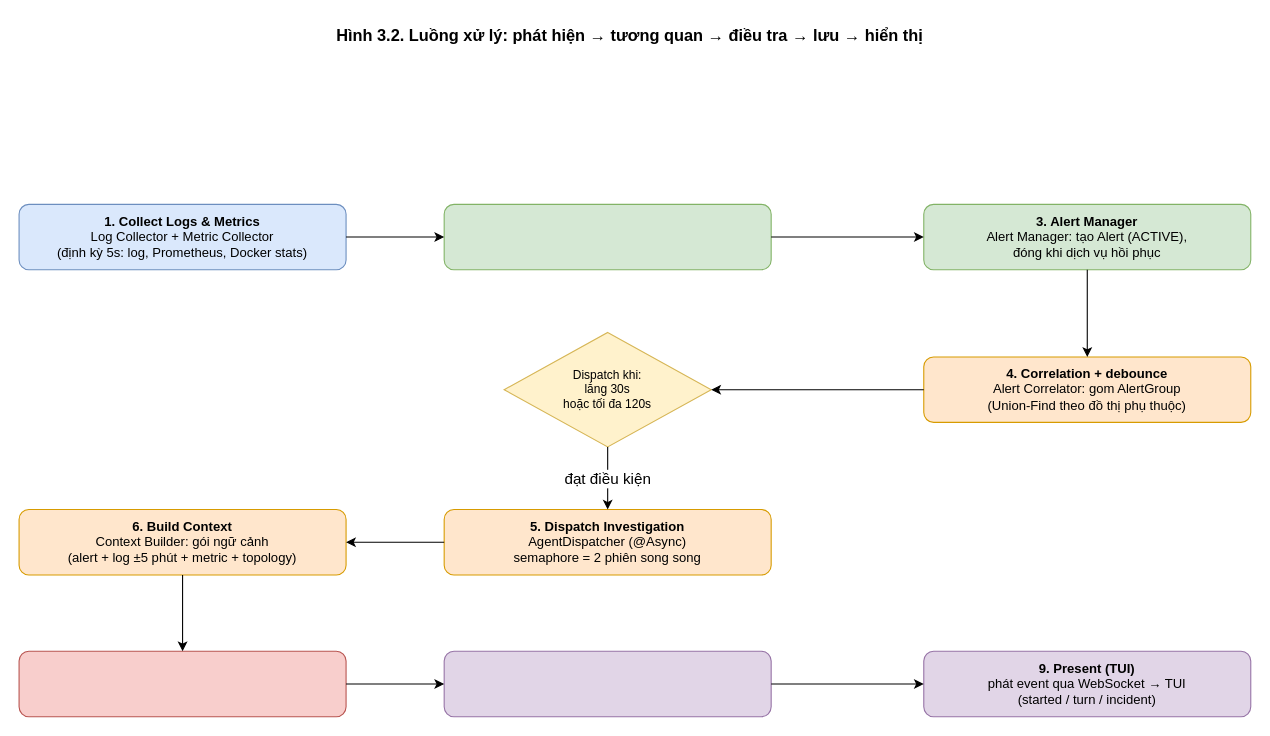
This 1270x736 diagram has some shape labels left out. Here are the shapes that lost their labels. From the top down, the centre of each, then its label:
the point at 607,236: 2. Detect Anomaly Detector (@Scheduled 5s) đối chiếu chỉ số với luật ngưỡng
the point at 182,683: 7. AI Agent vòng lặp 4 pha (gọi tool ↔ LLM) → List<IncidentReport>
the point at 607,683: 8. Persist Incident persist Incident + gán incidentId cho các Alert liên quan
